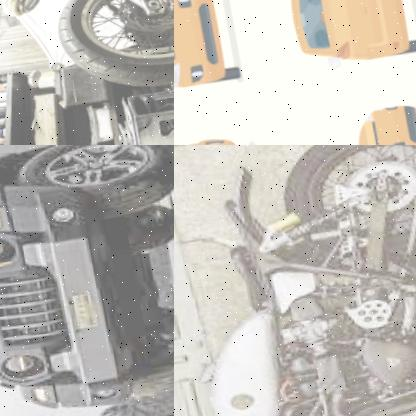bike: (174, 145, 416, 416)
car: (0, 145, 174, 416), (284, 0, 416, 76), (174, 0, 238, 110)
